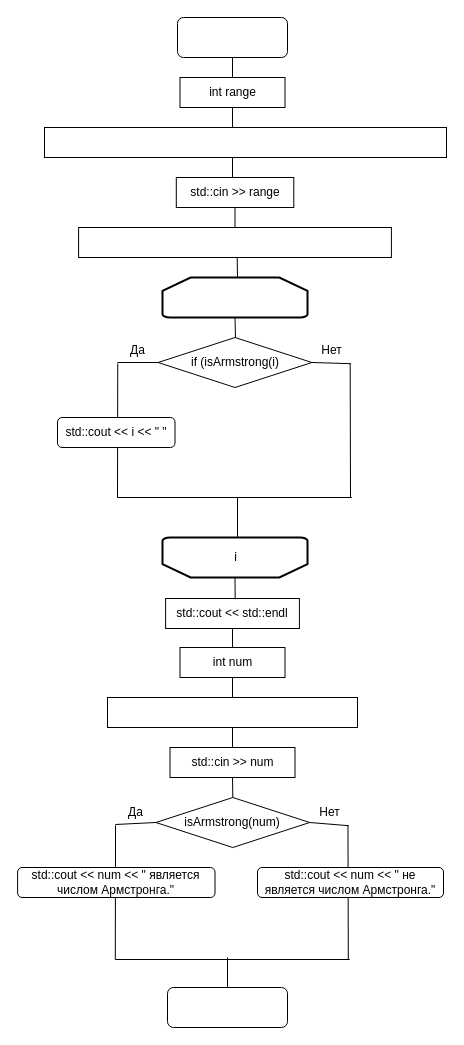
Image size: 464x1045. Some labels were removed from this diagram. The shapes that lost their labels are listed below. From the top down, each one's centre as x and y in pixels, then its label:
point (232, 37): Началo main
point (245, 142): std::cout << "Введите диапазон для нахождения чисел Армстронга: "
point (234, 242): std::cout << "Числа Армстронга в диапазоне от 1 до "
point (234, 297): int i = 1; i <= range; i++
point (232, 712): std::cout << "Введите число для проверки: "
point (227, 1007): Конец
